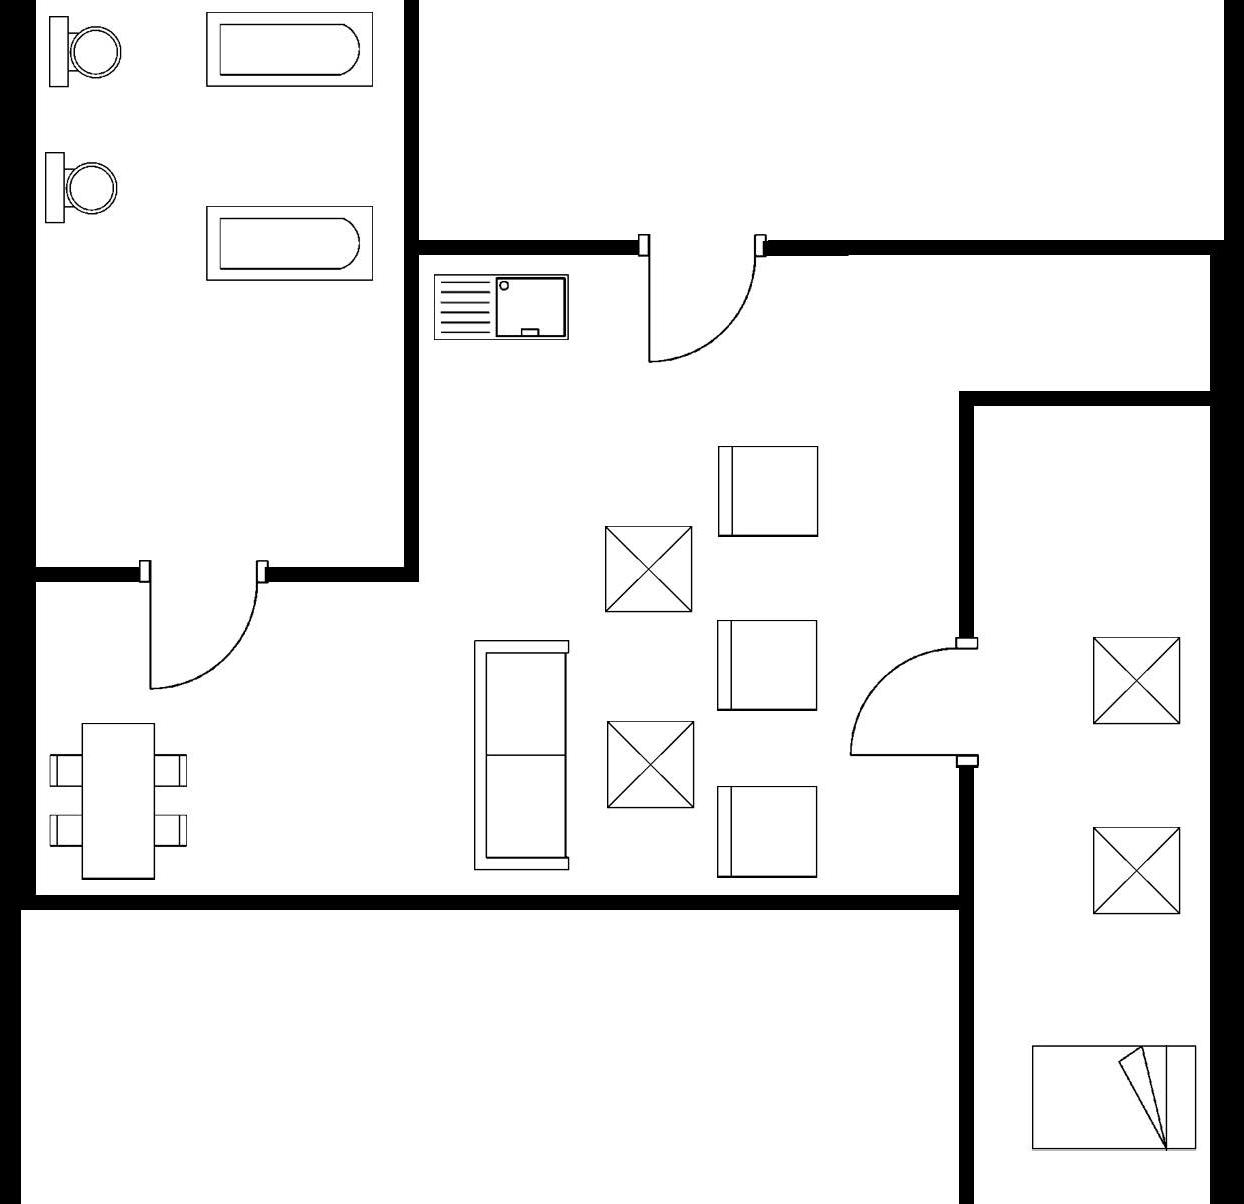bed: (1024, 1039, 1204, 1161)
dining_table: (42, 710, 195, 887)
sink: (427, 268, 576, 349)
sofa: (463, 630, 576, 882)
toilet: (39, 143, 126, 234), (43, 3, 127, 97)
tub: (195, 4, 383, 100), (198, 200, 382, 289)
